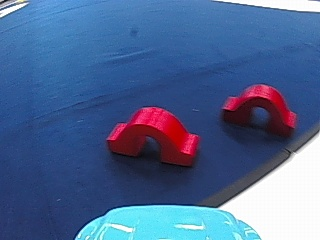bridge: (102, 102, 205, 166), (219, 81, 304, 138)
